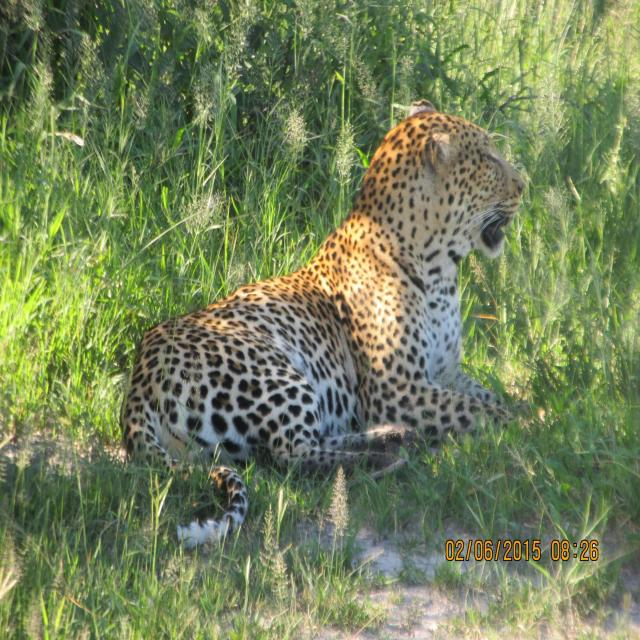Leopard: (104, 115, 562, 540)
